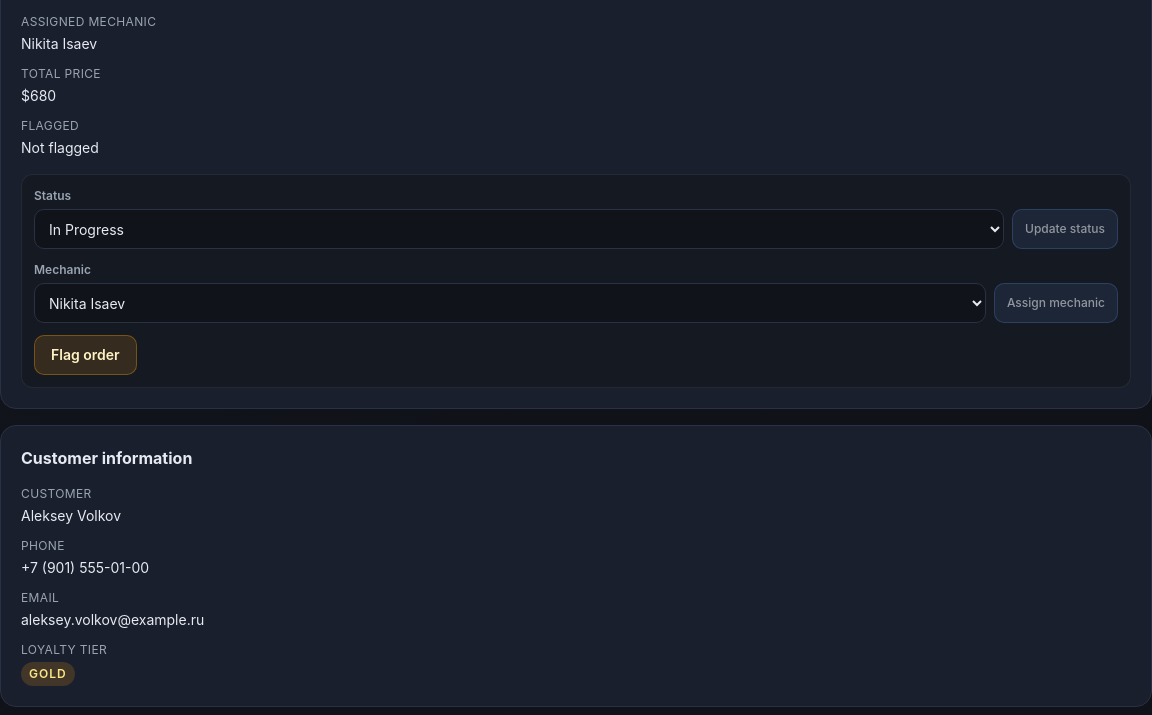
Test: OrderDetailsOverview › toggles flag from order details action block
(page scrolled)
Click the button "Flag order".
click(85, 355)  # box [34, 335, 137, 375]
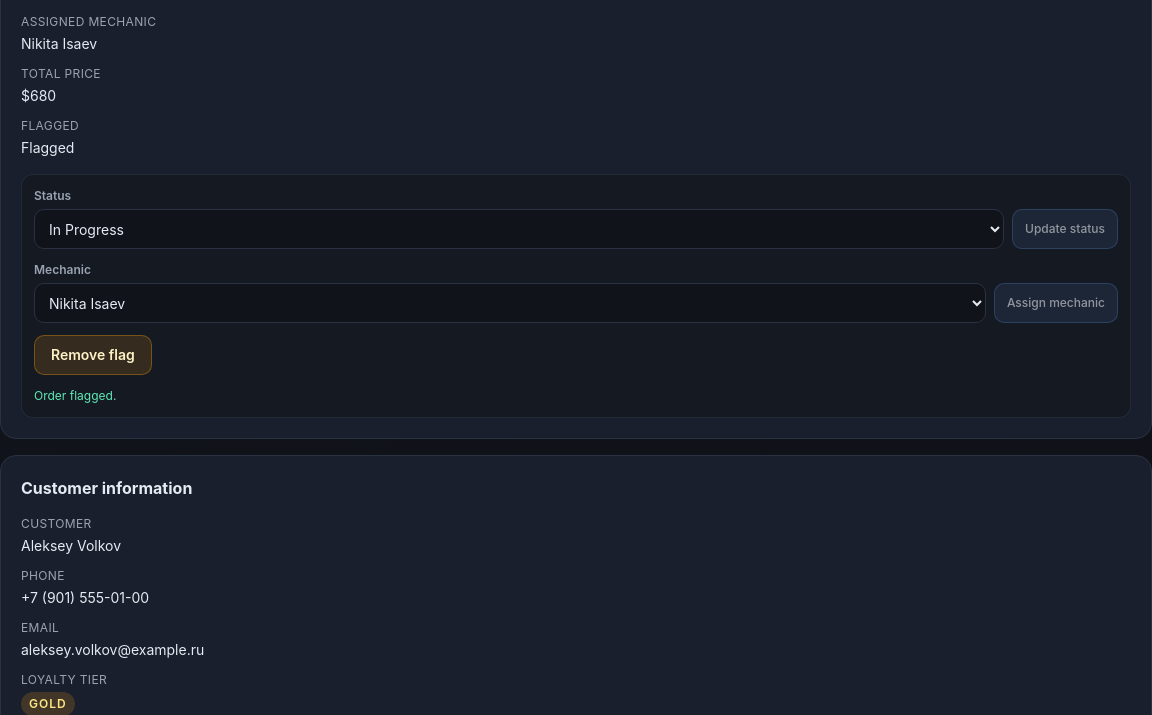
Expected: the text "Order flagged." is shown, [34, 388, 116, 403]
